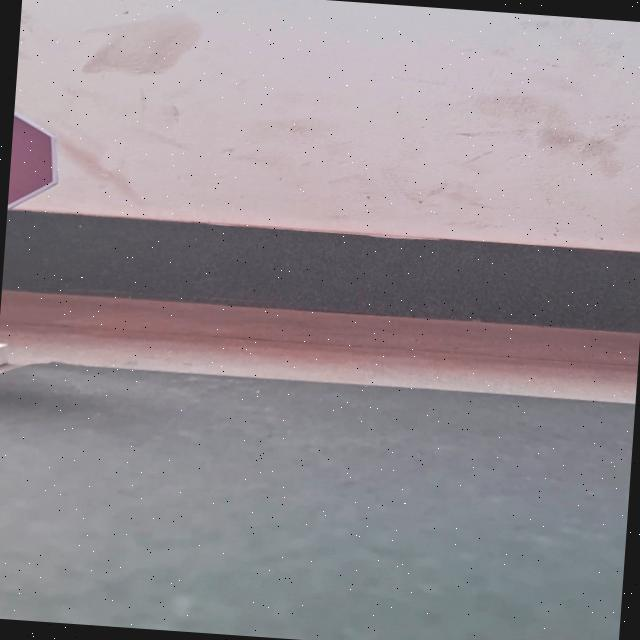Stop: (6, 98, 62, 215)
